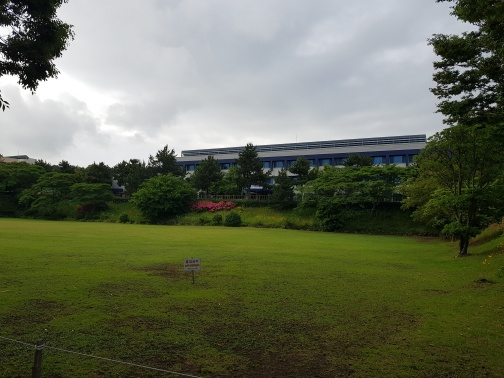College of Social Sciences: (173, 132, 429, 170)
